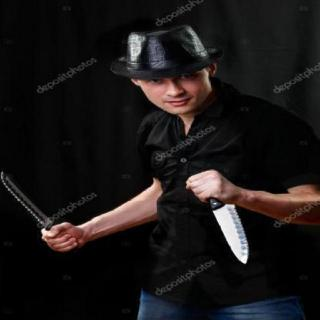knife: (184, 167, 256, 267)
